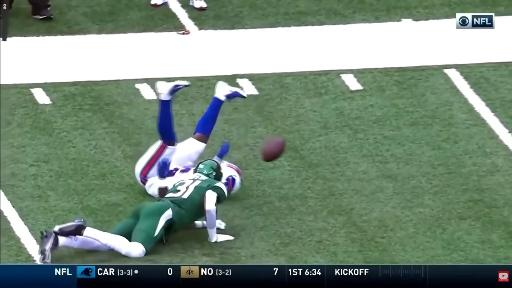Helmet: (221, 161, 242, 194), (194, 160, 222, 181)
Jersey: (159, 174, 227, 230), (145, 167, 193, 197)
Player: (40, 160, 233, 263), (135, 81, 246, 186), (146, 159, 193, 197)
